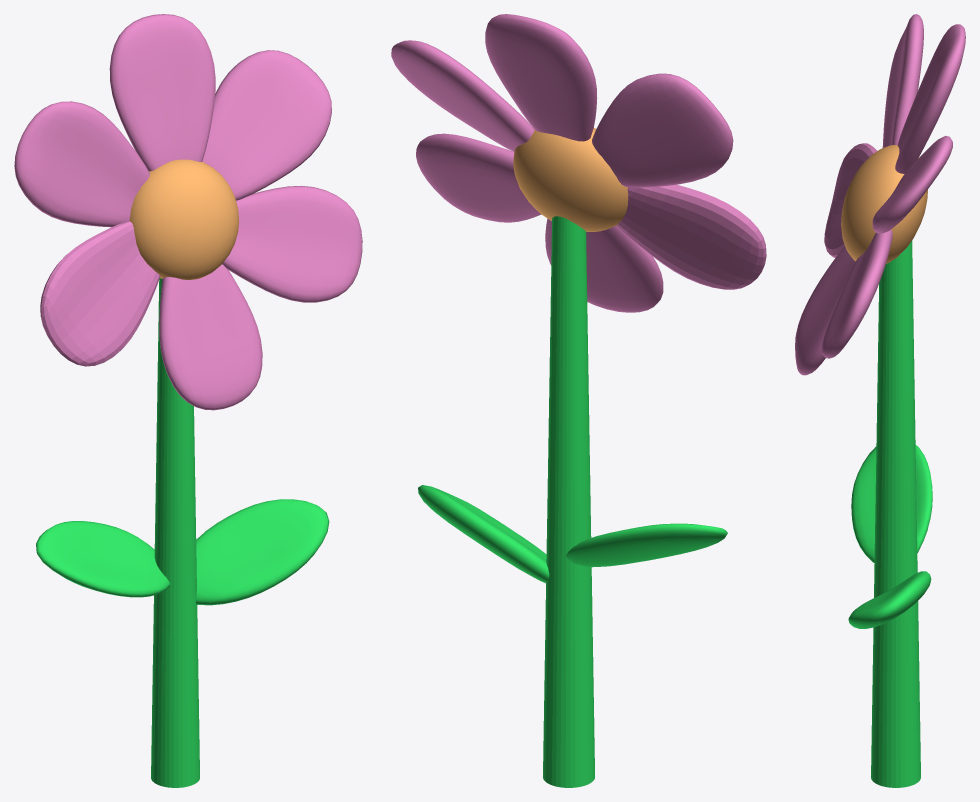
Rendered from Flower.fbx.
3 renders of one model, left to right at view 1: azimuth 30°, elevation 25°; view 2: azimuth 150°, elevation 25°; view 3: azimuth 270°, elevation 25°, orthographic. The views are drawn at different scales.
Visible parts, largest first — view 1: Cylinder, Plane.002, Plane.003, Plane.007, Plane.004, Plane.006, Plane.005, Sphere, Plane, Plane.001; view 2: Cylinder, Plane.004, Plane.005, Plane.003, Sphere, Plane.007, Plane.002, Plane.006, Plane.001, Plane; view 3: Cylinder, Sphere, Plane.003, Plane.007, Plane.001, Plane.006, Plane.004, Plane.002, Plane, Plane.005.
Part boxes in pixels (x1,y1,x2,y2): Cylinder: [151, 278, 199, 787]; Plane.002: [202, 50, 331, 200]; Plane.003: [109, 14, 215, 171]; Plane.007: [222, 185, 362, 302]; Plane.004: [14, 101, 149, 227]; Plane.006: [159, 264, 262, 410]; Plane.005: [40, 221, 160, 366]; Sphere: [129, 159, 239, 279]; Plane: [196, 499, 329, 605]; Plane.001: [36, 521, 169, 597]; Cylinder: [543, 216, 594, 787]; Plane.004: [592, 73, 733, 187]; Plane.005: [616, 184, 766, 289]; Plane.003: [485, 14, 597, 141]; Sphere: [513, 128, 628, 231]; Plane.007: [416, 133, 541, 222]; Plane.002: [391, 40, 534, 151]; Plane.006: [545, 218, 663, 312]; Plane.001: [566, 523, 727, 567]; Plane: [418, 485, 549, 583]; Cylinder: [871, 240, 920, 787]; Sphere: [841, 145, 927, 263]; Plane.003: [895, 24, 965, 173]; Plane.007: [821, 229, 892, 358]; Plane.001: [851, 445, 932, 562]; Plane.006: [795, 246, 855, 375]; Plane.004: [882, 14, 923, 147]; Plane.002: [872, 135, 952, 233]; Plane: [848, 571, 931, 628]; Plane.005: [824, 143, 877, 257].
Bounding box in the file's own units: 903 × 1963 × 406.
